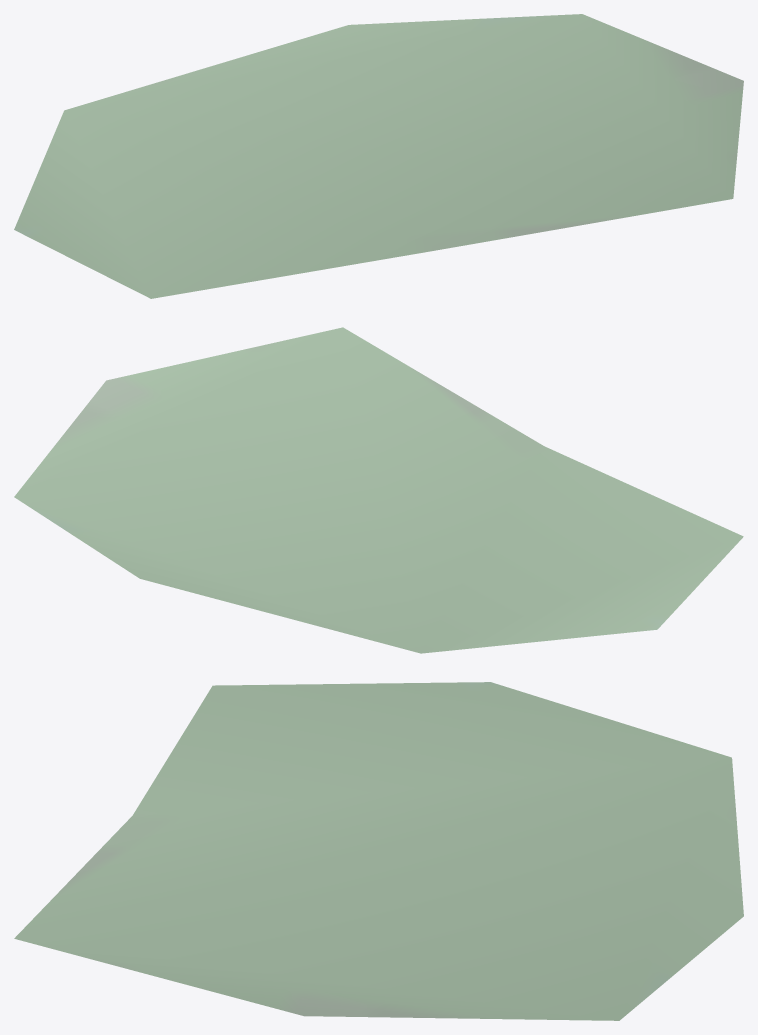
File: TROLLHOLE02_HOLECAP40.fbx
The picture shows the model from 3 angles, top to bottom: view 1: azimuth 30°, elevation 25°; view 2: azimuth 150°, elevation 25°; view 3: azimuth 270°, elevation 25°; orthographic projection. The views are drawn at different scales.
Parts seen in each view (by area): view 1: TROLLHOLE02_HOLECAP40; view 2: TROLLHOLE02_HOLECAP40; view 3: TROLLHOLE02_HOLECAP40.
Boxes of the visible parts, bbox=[...] form: TROLLHOLE02_HOLECAP40: bbox=[14, 14, 743, 298]; TROLLHOLE02_HOLECAP40: bbox=[14, 327, 743, 653]; TROLLHOLE02_HOLECAP40: bbox=[14, 682, 743, 1020].
Bounding box in the file's own units: 28369 × 1901 × 22455.
1 material, 1 textured.
